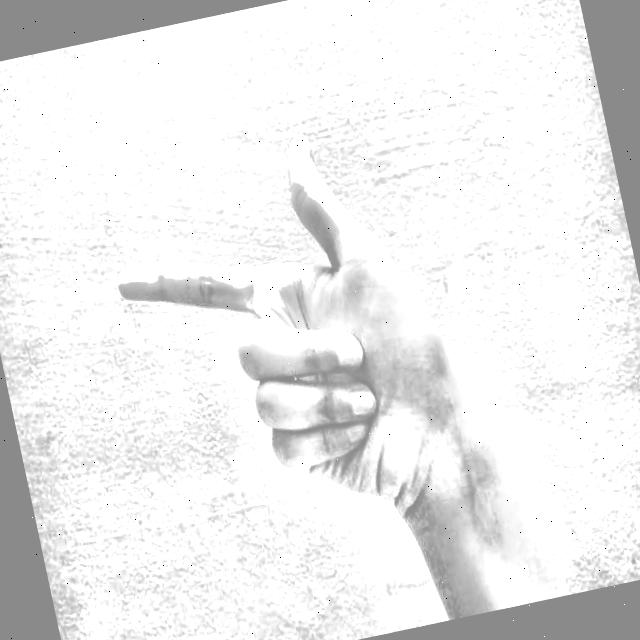Tho: (70, 55, 546, 577)
